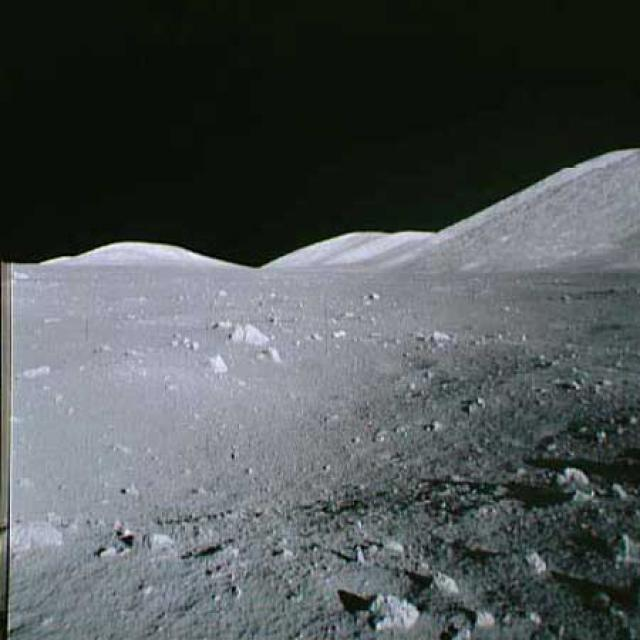rock: (5, 513, 78, 548), (366, 588, 423, 631), (551, 462, 593, 505), (230, 319, 270, 346), (425, 324, 459, 348), (202, 351, 230, 374), (144, 531, 174, 551), (262, 348, 282, 364)
